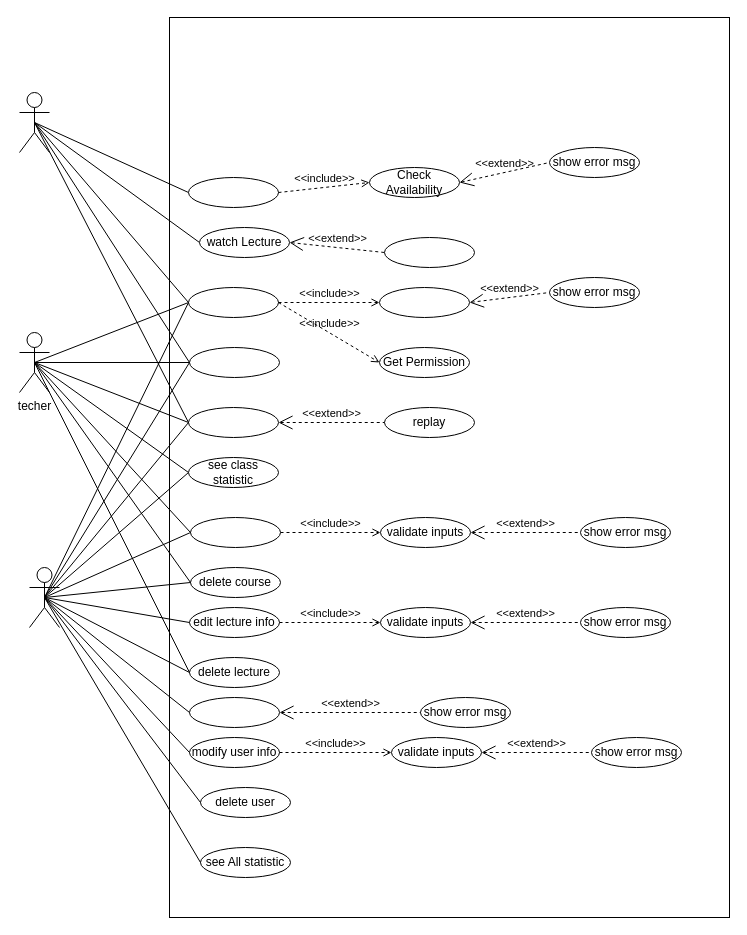
This 747x935 diagram has some shape labels left out. The box of each missing label's shape, as (x1, y1, x2, y2) in pixels:
admin: (28, 566, 60, 628)
authentication: (378, 286, 470, 318)
comment: (188, 406, 278, 438)
edit course info: (190, 516, 280, 548)
Finish The Lecture: (384, 236, 474, 268)
inrol in course: (188, 176, 278, 208)
login: (188, 286, 278, 318)
logout: (188, 346, 280, 378)
studint: (18, 92, 50, 152)
upgrade user rank: (188, 696, 280, 728)
